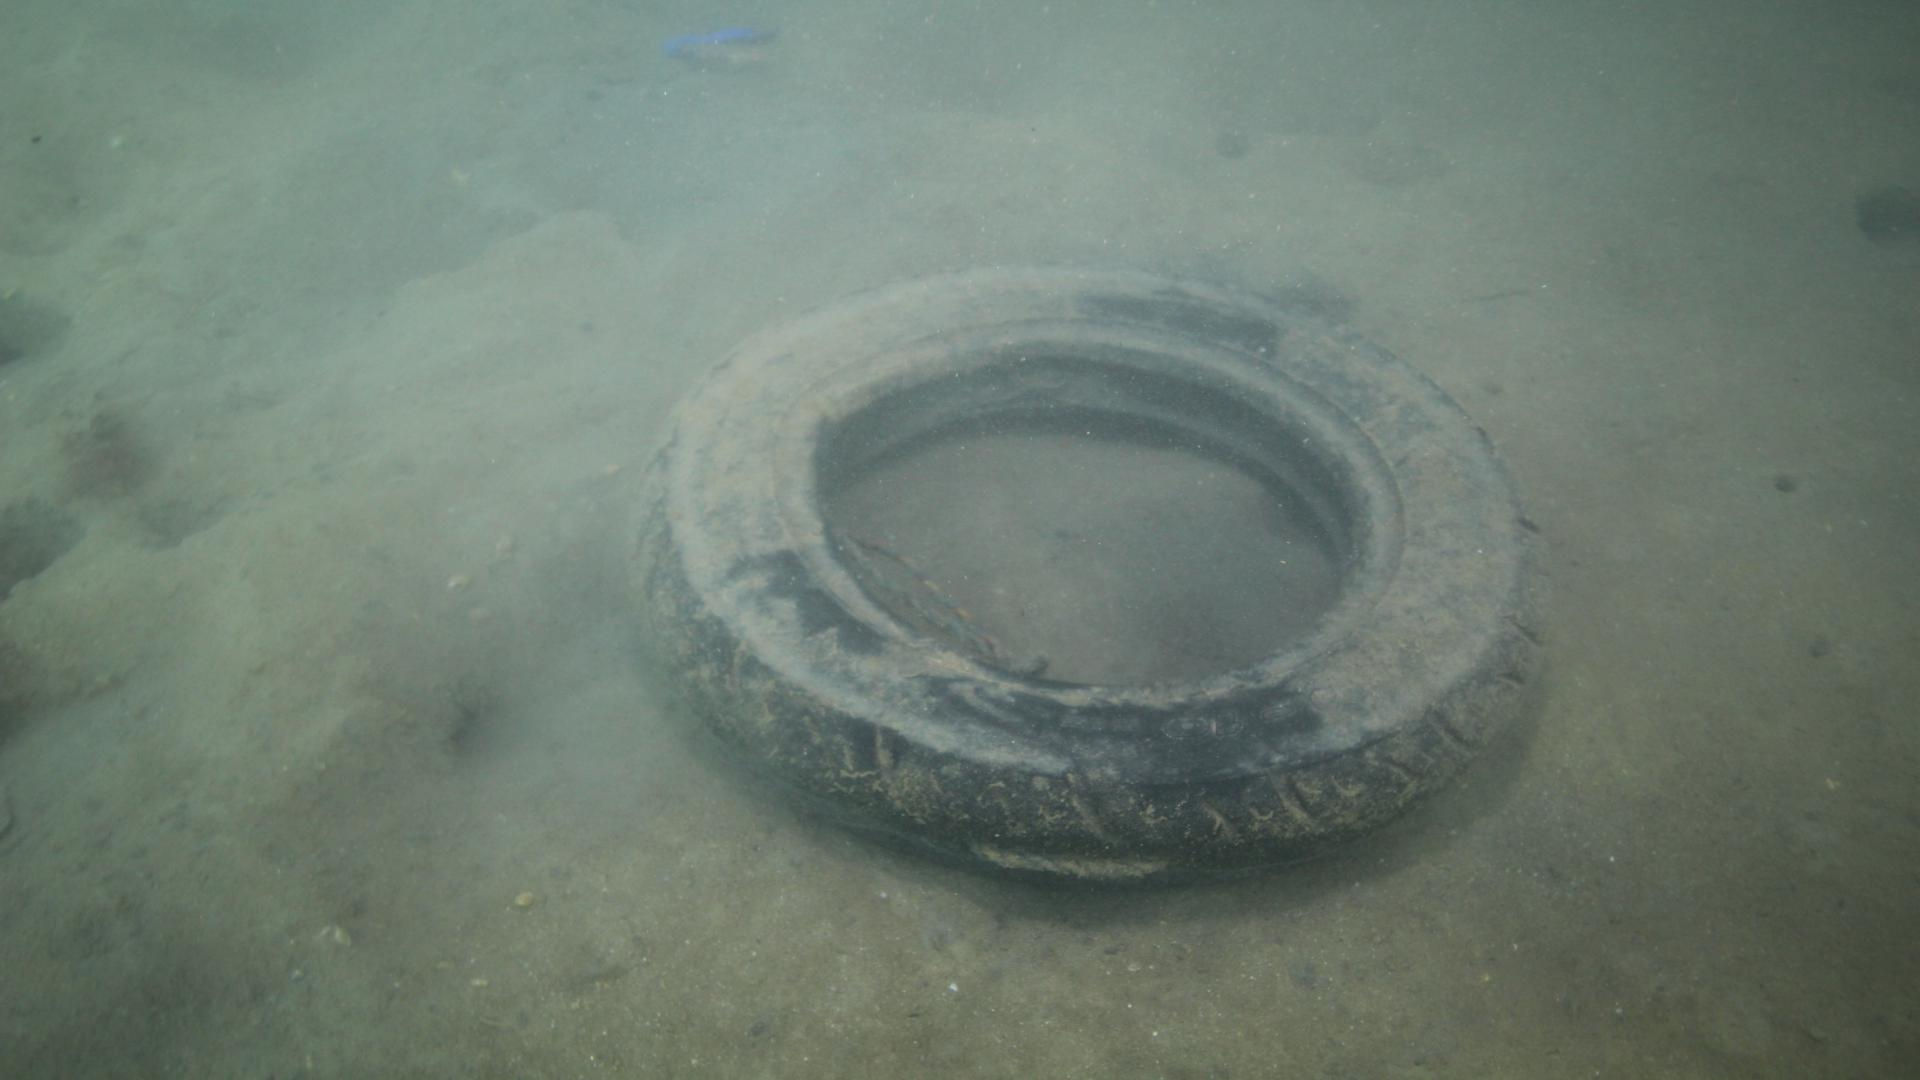rope: (835, 527, 1052, 678)
tire: (622, 261, 1553, 880)
